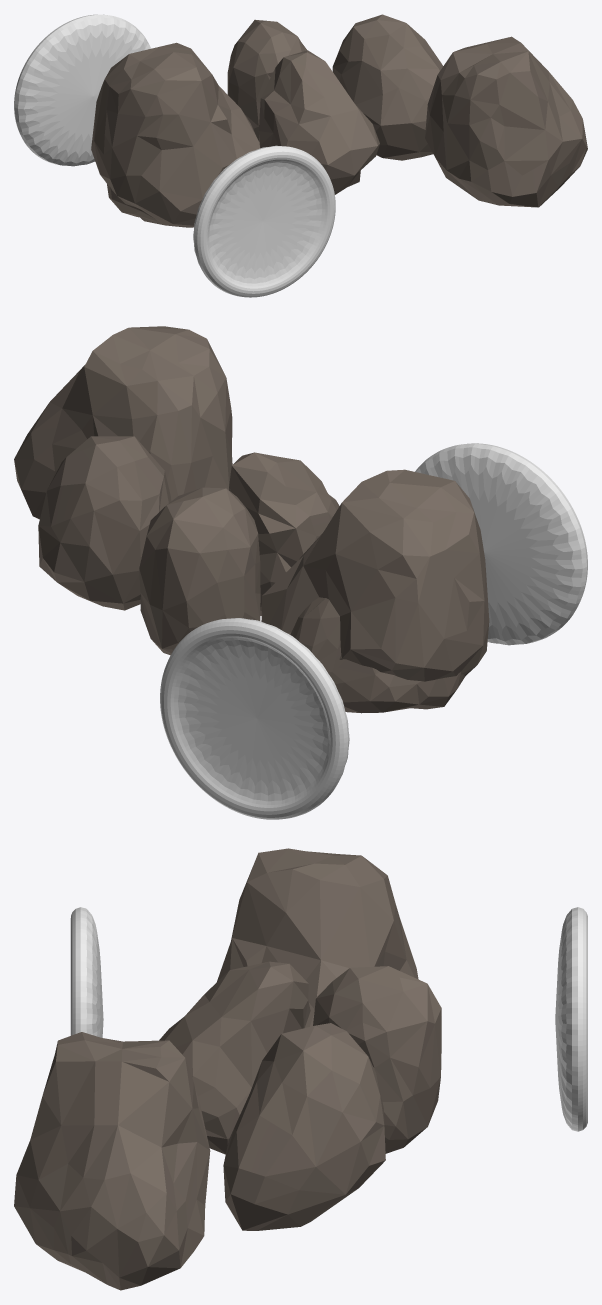
The model's file is rock2.fbx.
The picture shows the model from 3 angles, top to bottom: view 1: azimuth 30°, elevation 25°; view 2: azimuth 150°, elevation 25°; view 3: azimuth 270°, elevation 25°; orthographic projection. The views are drawn at different scales.
Visible parts, largest first — view 1: rock3, Cylinder.001, rock2, rock1; view 2: Cylinder.001, rock3, rock2, rock1; view 3: rock3, rock1, rock2, Cylinder.001.
Boxes of the visible parts, x1=… form: rock3: x1=332, y1=14, x2=587, y2=207; Cylinder.001: x1=14, y1=14, x2=335, y2=297; rock2: x1=91, y1=42, x2=259, y2=227; rock1: x1=107, y1=19, x2=379, y2=221; Cylinder.001: x1=160, y1=443, x2=587, y2=819; rock3: x1=14, y1=326, x2=232, y2=610; rock2: x1=261, y1=469, x2=489, y2=681; rock1: x1=139, y1=452, x2=465, y2=713; rock3: x1=14, y1=1023, x2=385, y2=1290; rock1: x1=159, y1=961, x2=441, y2=1154; rock2: x1=217, y1=848, x2=418, y2=1027; Cylinder.001: x1=70, y1=907, x2=587, y2=1131.
Bounding box in the file's own units: 312 × 135 × 275.
